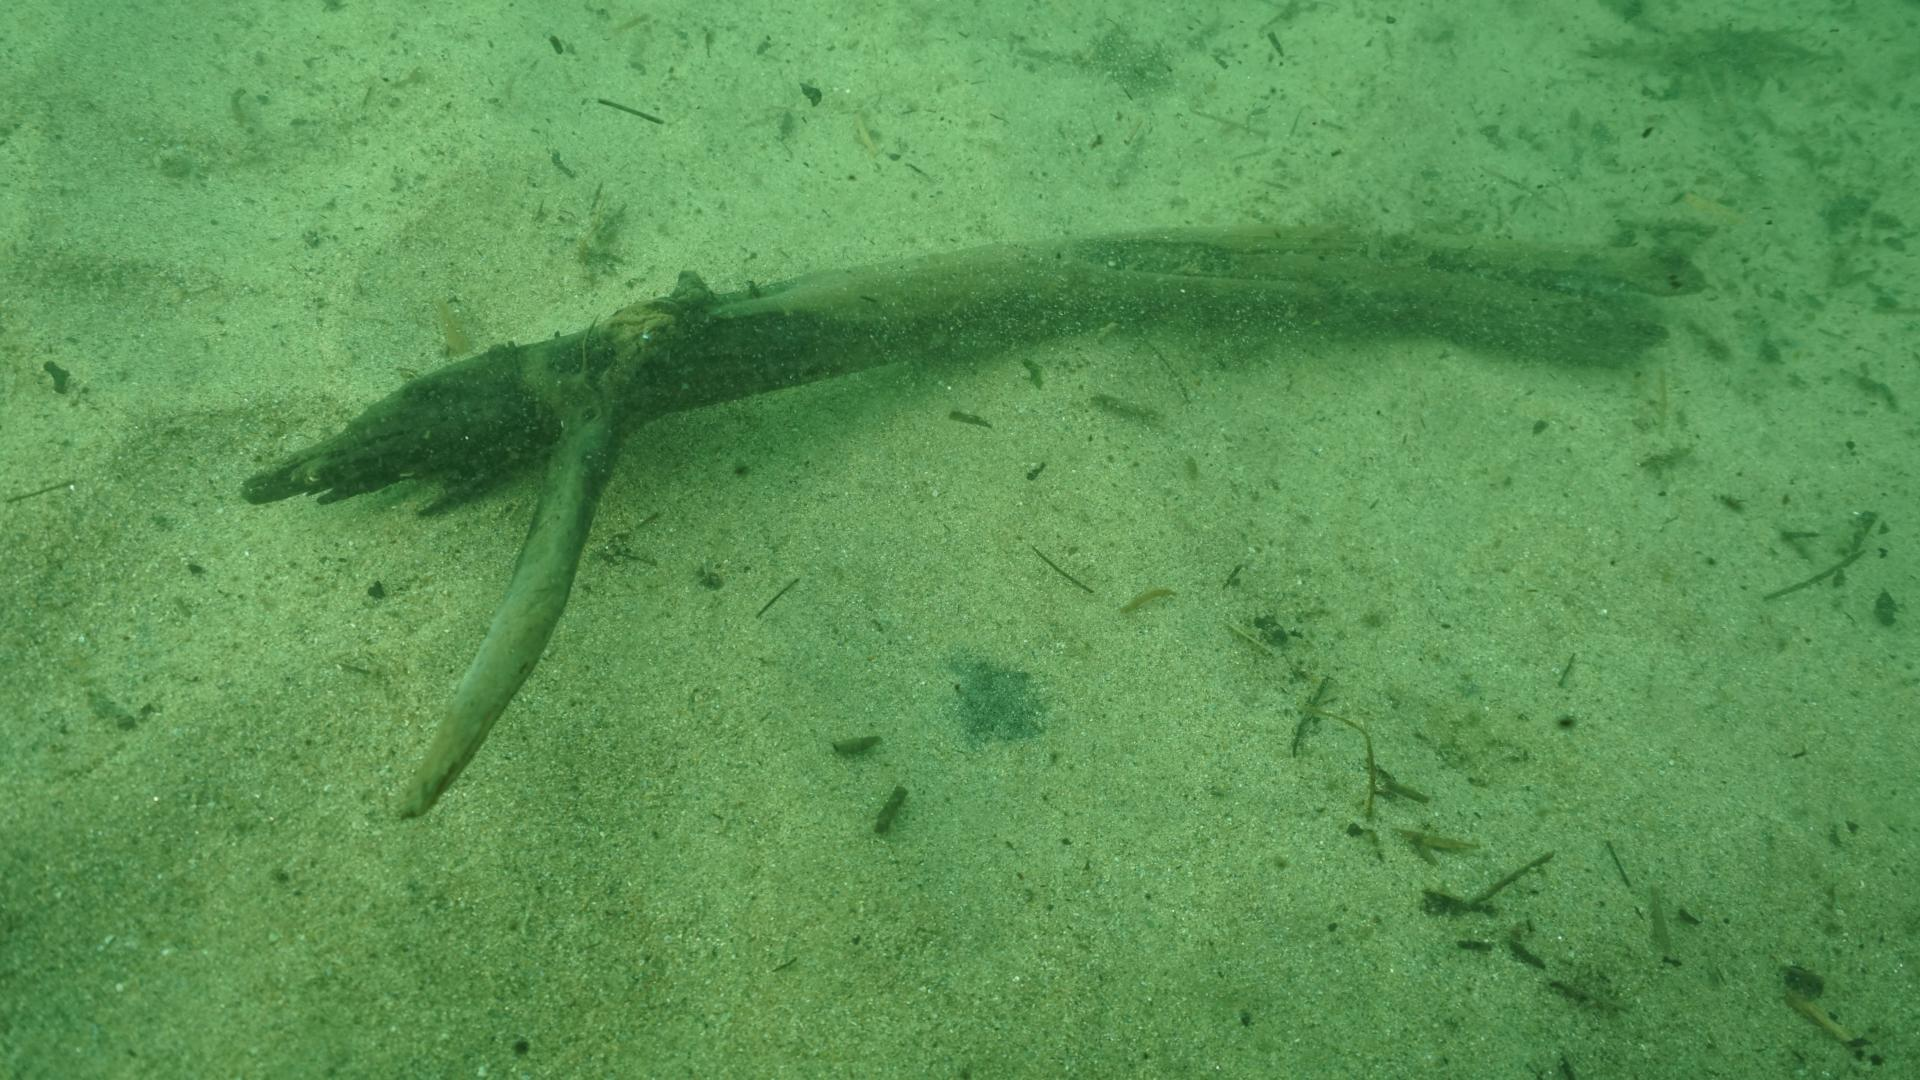wood: (233, 225, 1702, 822)
